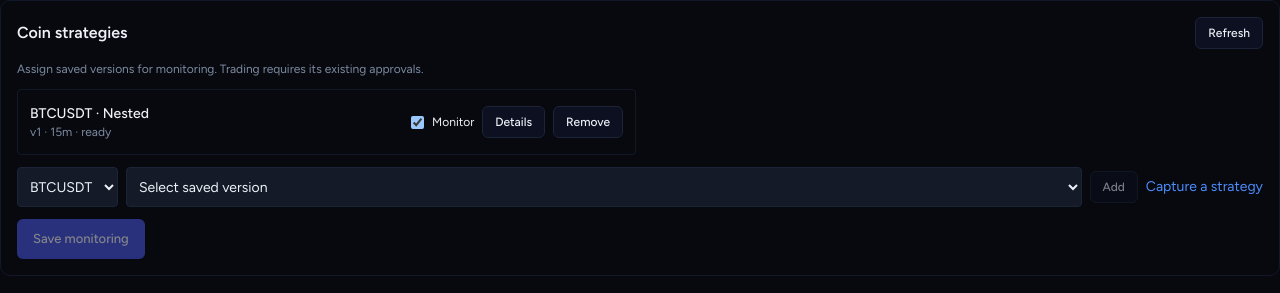
Scenario: adding a saved version uses its immutable snapshot and rejects duplicate coin/version bindings
Expected: the text "BTCUSDT · Nested" is shown, [30,105,149,122]
Select "Nested · v1 · 15m" in the dropdown named "Saved strategy version" at point(604, 187), box [126,167,1082,207]
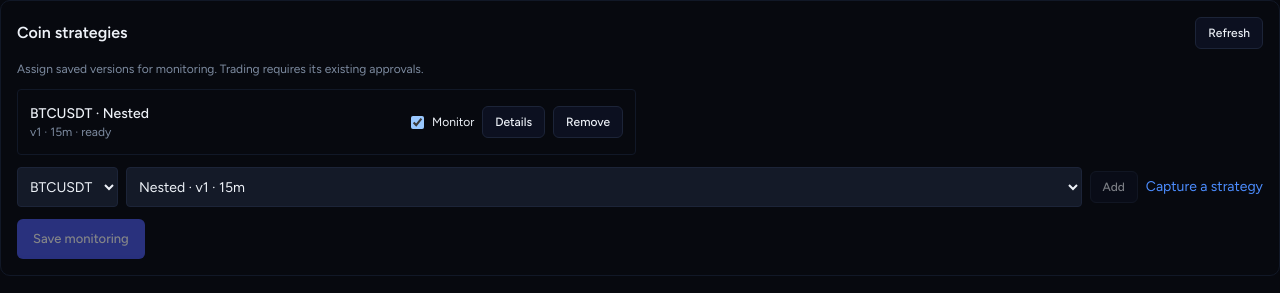
Expected: the button "Add" is disabled, [1090,171,1138,203]
Select "SFP · v2 · 15m" in the dropdown named "Saved strategy version" at point(604, 187), box [126,167,1082,207]
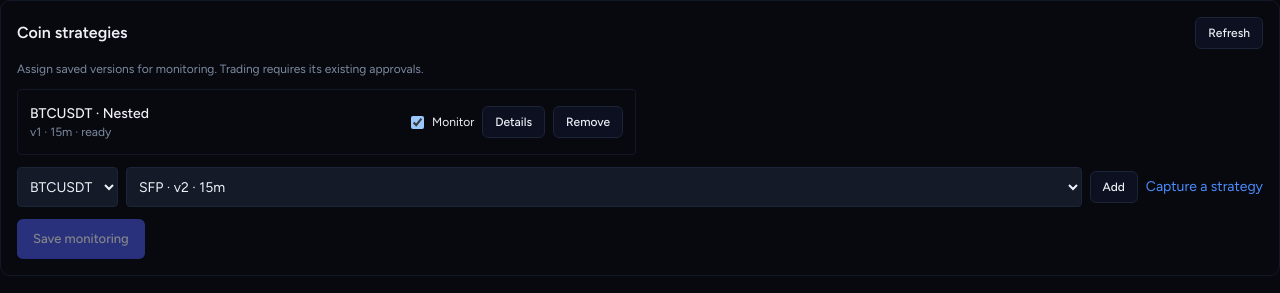
Click the button "Add" at point(1114, 187), box [1090,171,1138,203]
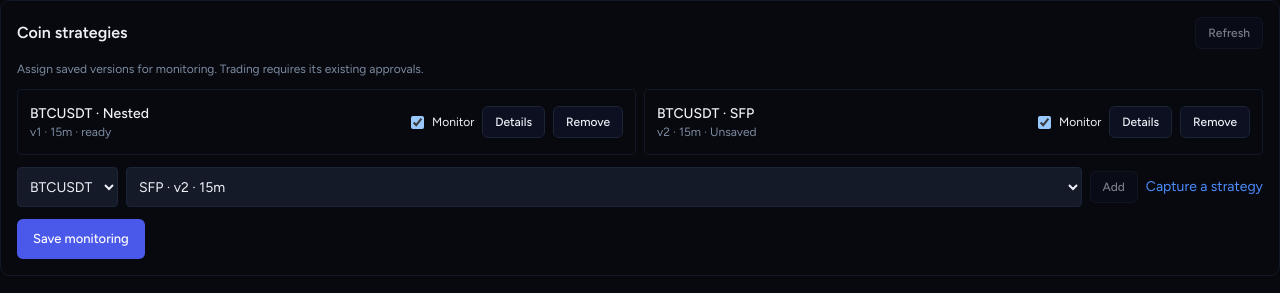
Result: the number of elements with test id "monitoring-assignment" is 2 at [17,89,636,155]; [644,89,1263,155]
Click the button "Save monitoring" at point(81, 239), box [17,219,145,259]
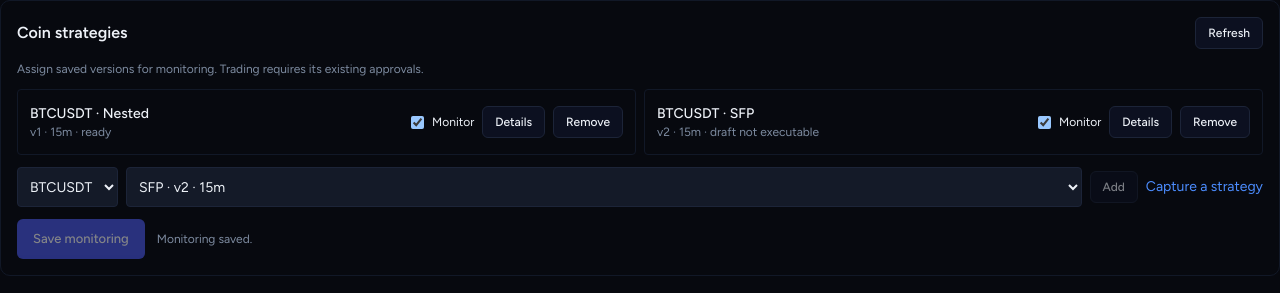
Result: the text "Monitoring saved." is shown at [157,231,252,247]
